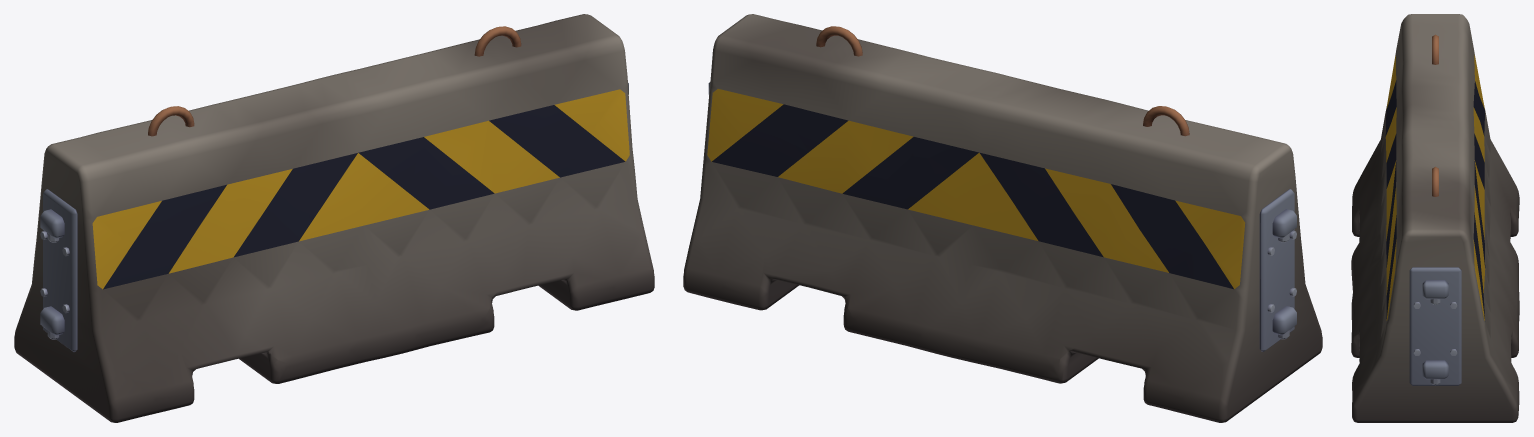
Rendered from barriere_jersey.glb.
3 renders of one model, left to right at view 1: azimuth 30°, elevation 25°; view 2: azimuth 150°, elevation 25°; view 3: azimuth 270°, elevation 25°, orthographic. The views are drawn at different scales.
Visible parts, largest first — view 1: barriere_jersey; view 2: barriere_jersey; view 3: barriere_jersey.
Boxes of the visible parts, bbox=[...] form: barriere_jersey: bbox=[14, 14, 654, 422]; barriere_jersey: bbox=[683, 14, 1322, 422]; barriere_jersey: bbox=[1351, 14, 1519, 422].
Size of the model in its own units: 2.12 by 0.901 by 0.6466.
